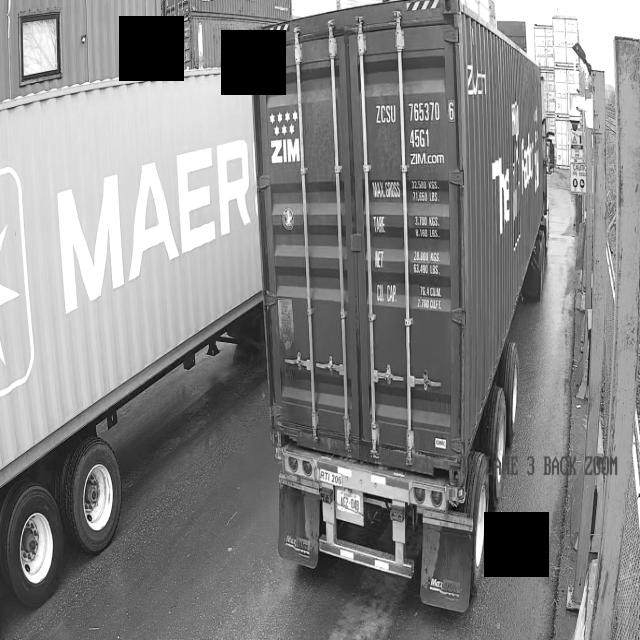container_company_logo: (265, 98, 322, 184)
container_number: (367, 89, 455, 179)
license_plate: (330, 472, 371, 524)
truck_with_container: (251, 0, 548, 611), (0, 67, 265, 640)
